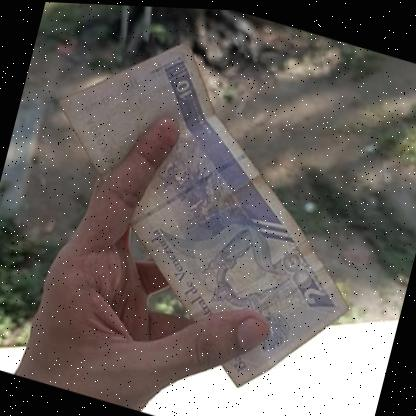ten-back-vef: (2, 6, 401, 416)
